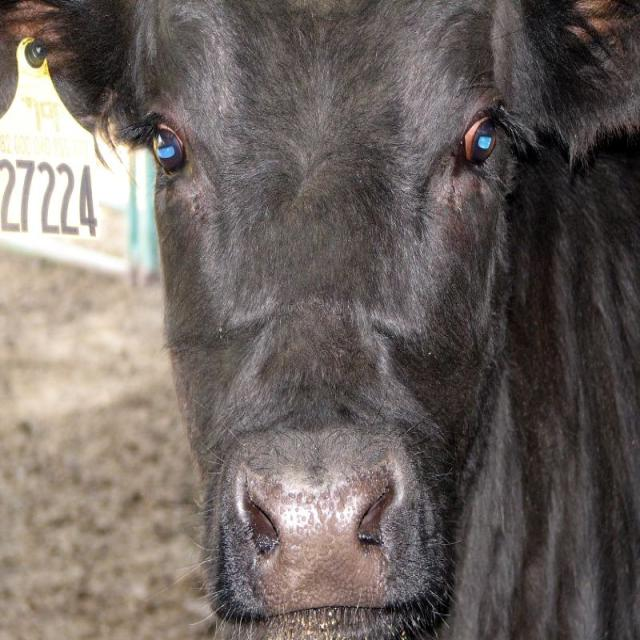cow: (0, 3, 640, 637)
